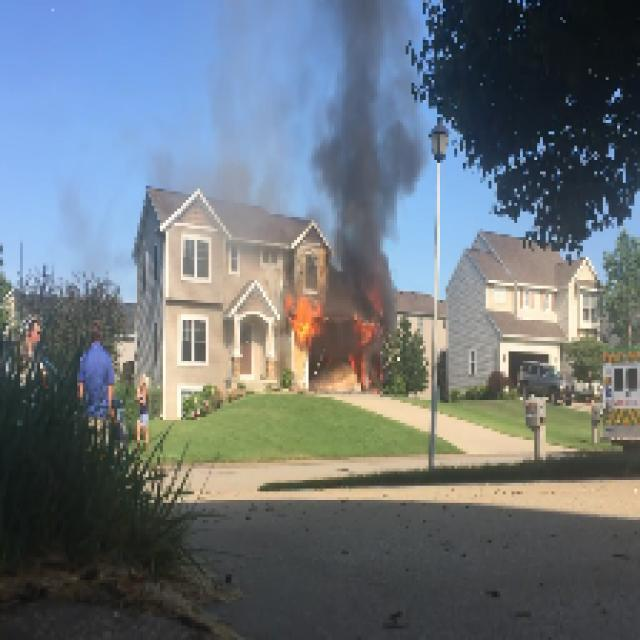Fire: (288, 296, 314, 346)
Smoke: (336, 3, 392, 299)
